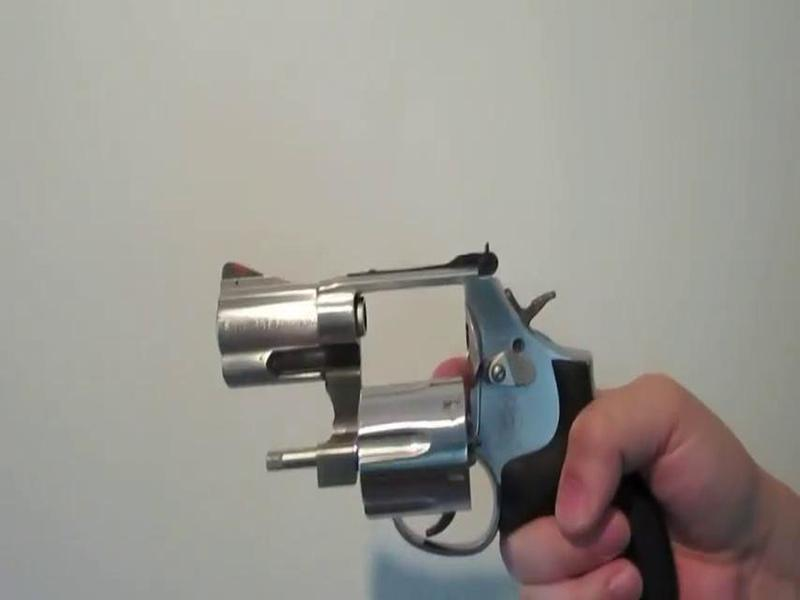Revolver: (208, 231, 702, 597)
